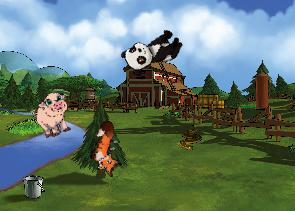fox: (83, 118, 134, 179)
panda: (119, 23, 186, 79)
pig: (28, 89, 78, 141)
